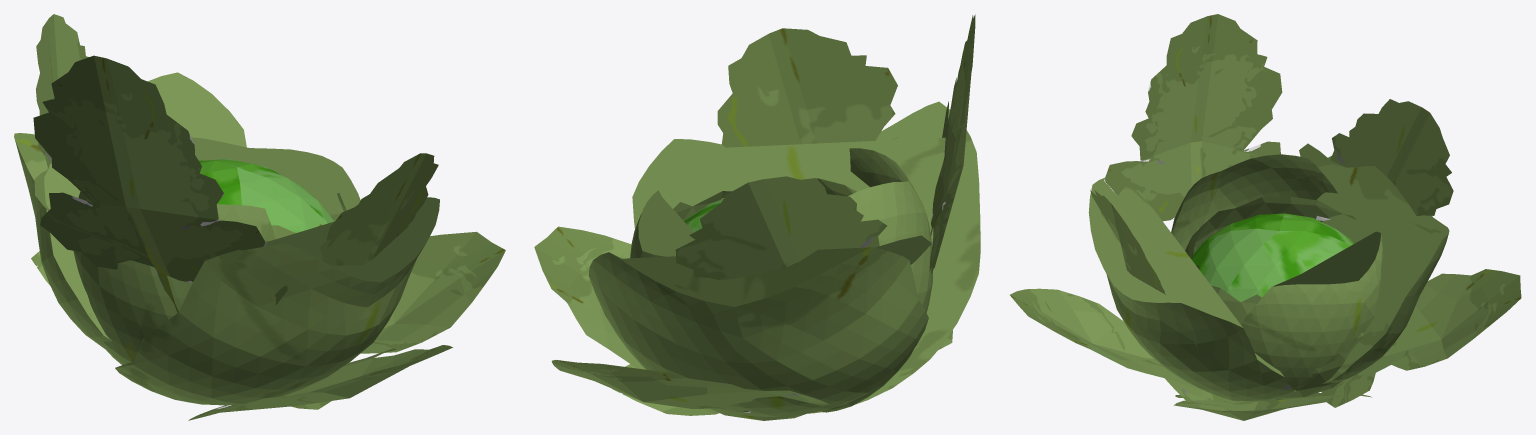
File: brassicaceae.glb
3 views of the same model, side by side, from view 1: azimuth 30°, elevation 25°; view 2: azimuth 150°, elevation 25°; view 3: azimuth 270°, elevation 25° (orthographic). The views are drawn at different scales.
Parts seen in each view (by area): view 1: cabbage plant, Plane.002, Plane.000; view 2: cabbage plant, Plane.002, Plane.001; view 3: cabbage plant, Plane.001, Plane.000, Plane.002.
Boxes of the visible parts, left/top/right/bottom form: cabbage plant: left=14, top=14, right=439, bottom=405; Plane.002: left=291, top=231, right=505, bottom=409; Plane.000: left=188, top=345, right=452, bottom=420; cabbage plant: left=588, top=14, right=980, bottom=420; Plane.002: left=534, top=226, right=719, bottom=415; Plane.001: left=551, top=360, right=829, bottom=408; cabbage plant: left=1088, top=14, right=1453, bottom=401; Plane.001: left=1321, top=269, right=1521, bottom=407; Plane.000: left=1010, top=288, right=1224, bottom=402; Plane.002: left=1174, top=393, right=1371, bottom=420.
Bounding box in the file's own units: 1.34 × 1.15 × 1.71.
Materials: 2 (2 with a texture image).
